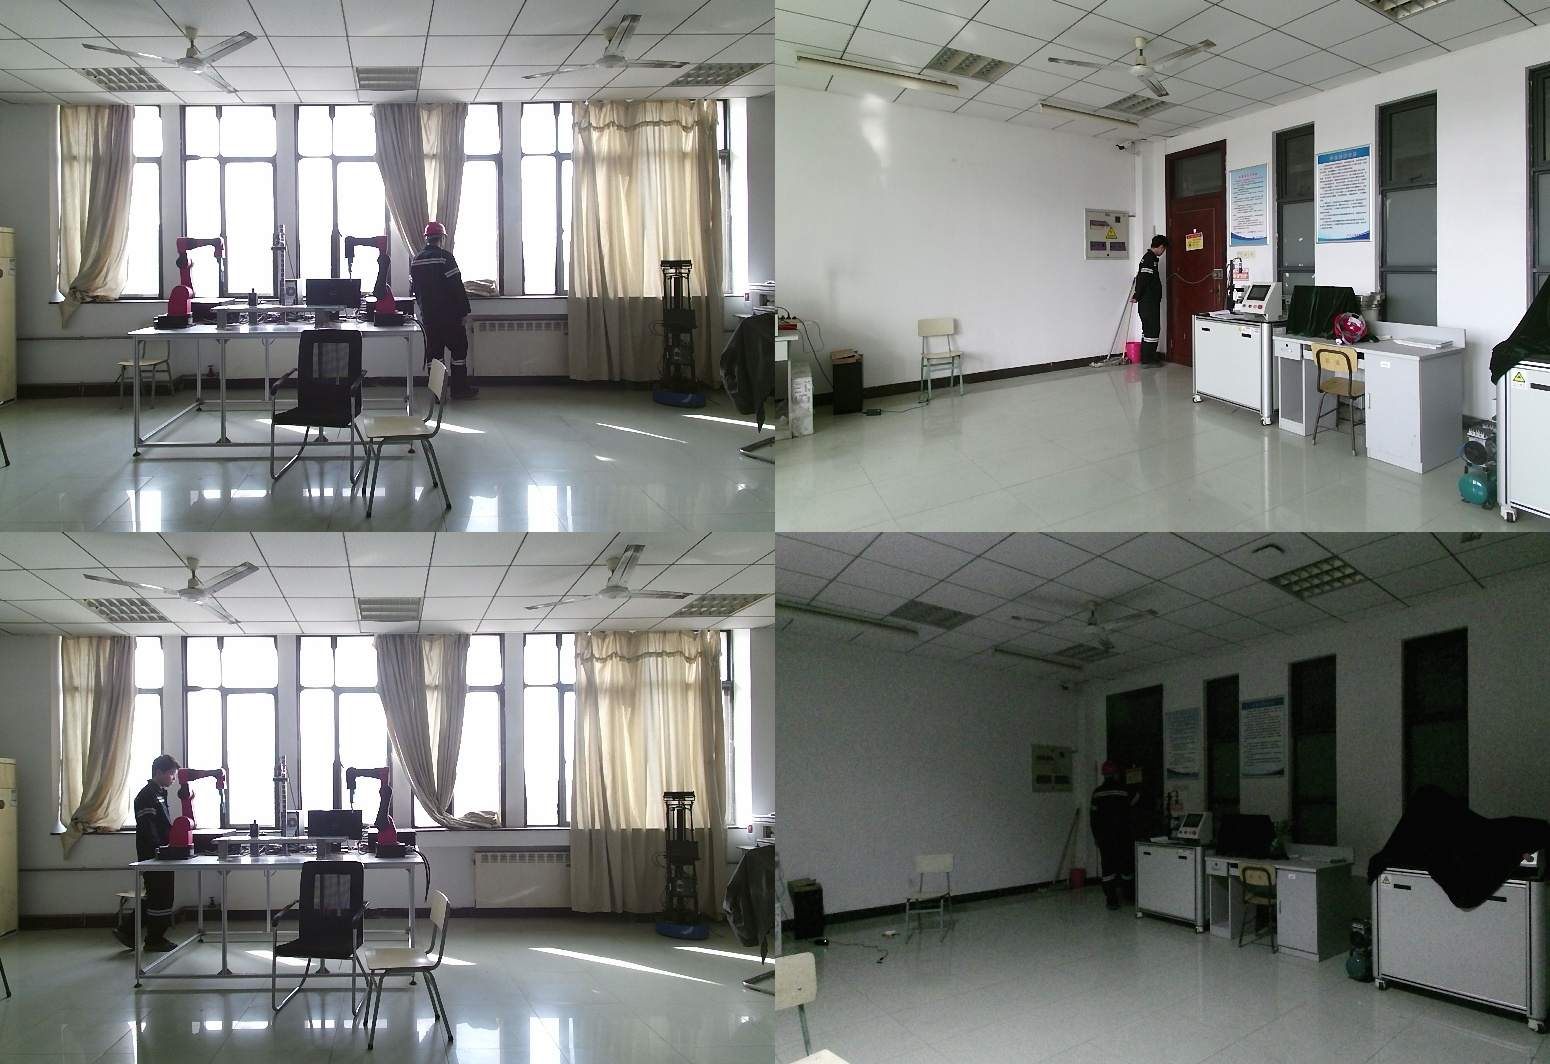person: (118, 753, 193, 959), (407, 223, 480, 407), (1083, 762, 1156, 918), (1132, 236, 1173, 374)
